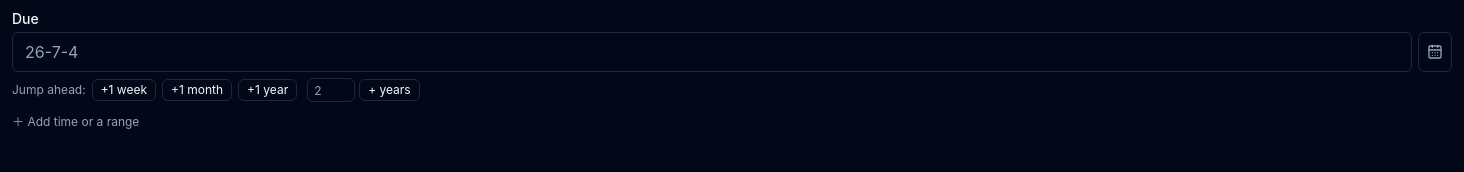
Test case: DueFieldset › commits a flexible start date on blur, echoed canonical
The width and height of the screenshot is (1464, 172).
Type "26-8-15" into the field labelled "Due". click: [712, 52]
box: [12,32,1412,72]
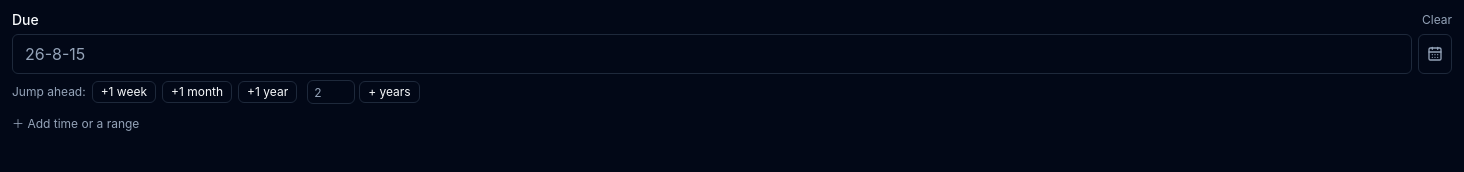
Leave the field labelled "Due", box [12,34,1412,74]
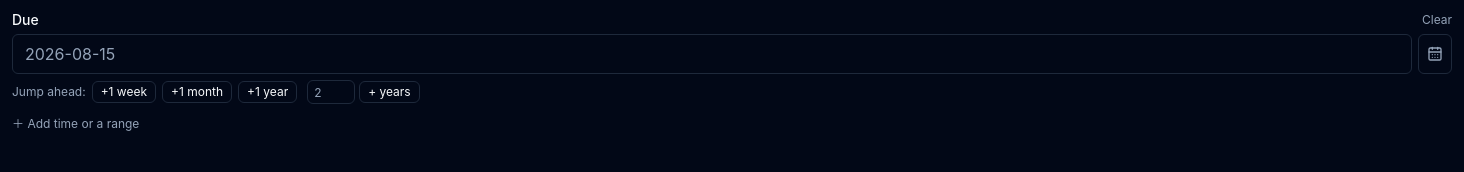
expect the field labelled "Due" holds "2026-08-15": met, box [12,34,1412,74]
